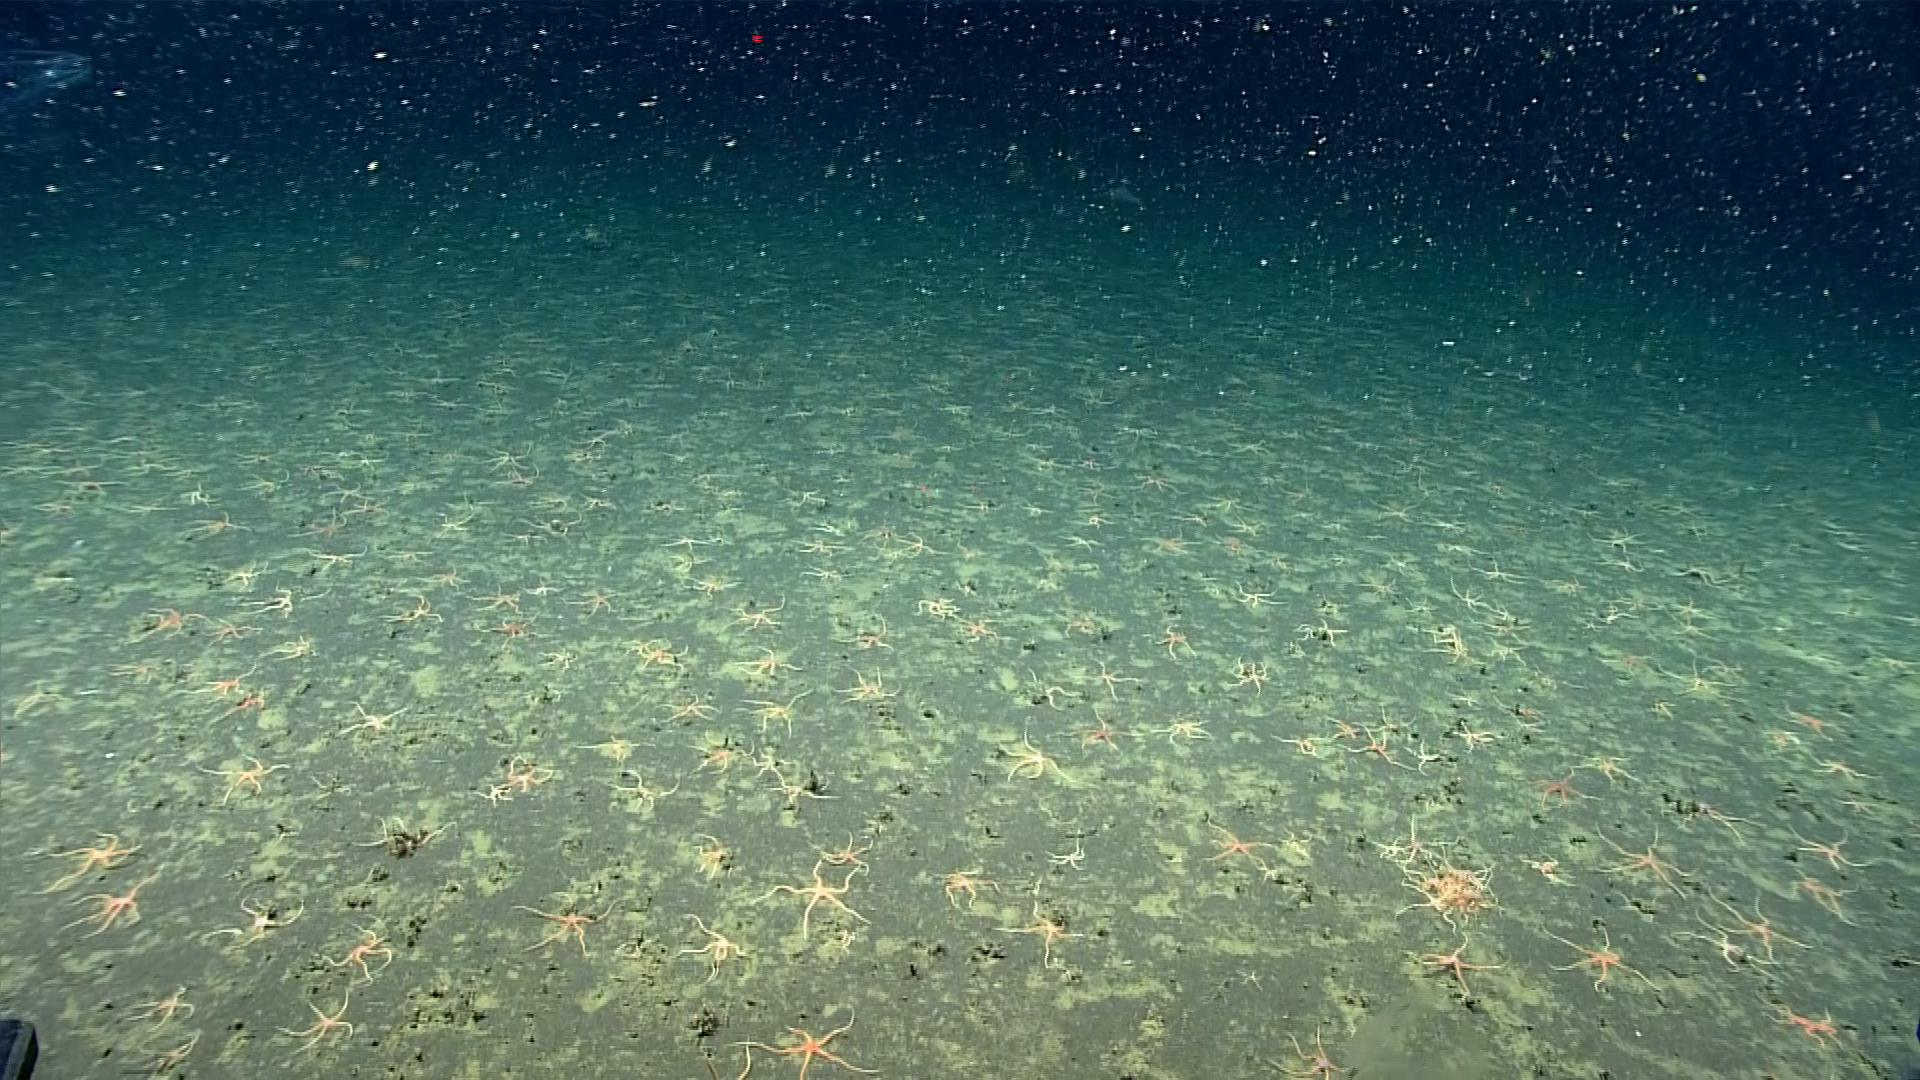brittle_sea_star: (725, 1006, 878, 1072), (738, 845, 864, 915), (54, 862, 166, 938), (1544, 927, 1662, 996), (32, 819, 142, 891), (1596, 822, 1695, 901), (1712, 890, 1817, 964), (1408, 935, 1511, 1009), (509, 887, 617, 953), (992, 897, 1087, 963), (1672, 902, 1758, 972), (272, 981, 357, 1050), (313, 913, 398, 981), (202, 889, 307, 944), (673, 909, 750, 978), (1788, 866, 1871, 931), (195, 746, 290, 802), (1759, 996, 1847, 1052), (989, 721, 1067, 779), (352, 810, 459, 851), (1673, 795, 1764, 843), (1063, 698, 1142, 752), (1192, 819, 1270, 868), (795, 814, 869, 864), (120, 599, 207, 641), (124, 976, 198, 1025), (1793, 825, 1866, 874), (733, 680, 810, 727), (1395, 807, 1460, 861), (1656, 651, 1734, 696), (1073, 649, 1142, 699), (1523, 761, 1601, 804), (1337, 723, 1412, 767), (331, 694, 411, 735), (928, 856, 996, 905), (473, 604, 553, 642), (605, 758, 676, 800), (828, 658, 901, 699), (178, 657, 258, 692), (135, 1019, 204, 1060), (1018, 661, 1073, 709), (720, 588, 786, 629), (1771, 700, 1846, 736), (828, 611, 897, 649), (208, 680, 270, 723), (684, 720, 741, 765), (181, 504, 249, 541), (1803, 750, 1879, 783), (1576, 746, 1643, 783), (737, 638, 803, 675), (1390, 874, 1447, 916), (295, 538, 371, 570), (1520, 843, 1575, 886), (764, 761, 829, 796), (287, 500, 348, 538), (1147, 705, 1216, 738), (691, 829, 736, 880), (649, 690, 717, 721), (1145, 616, 1199, 655), (376, 588, 442, 620), (947, 611, 1013, 642), (512, 505, 587, 533), (1222, 650, 1271, 692), (500, 750, 555, 787), (1667, 555, 1737, 584), (236, 580, 297, 613), (463, 576, 524, 609), (203, 609, 261, 644), (1472, 551, 1528, 585), (260, 628, 320, 659), (1447, 572, 1498, 609), (575, 729, 642, 757), (215, 555, 278, 584), (1360, 703, 1422, 732), (1141, 527, 1207, 554), (1232, 574, 1284, 607), (738, 731, 781, 771), (1403, 731, 1447, 770), (1448, 713, 1494, 750), (911, 585, 960, 620), (1299, 609, 1348, 644), (414, 559, 472, 587), (1269, 727, 1325, 754), (1593, 520, 1650, 547), (782, 530, 852, 553), (1486, 636, 1535, 667), (659, 524, 720, 549), (1042, 829, 1084, 865), (433, 502, 477, 535), (1478, 615, 1534, 641), (104, 653, 165, 676), (894, 525, 938, 558), (632, 640, 684, 666), (564, 585, 617, 612), (1830, 786, 1886, 811), (683, 568, 737, 593), (1425, 633, 1476, 659), (1052, 604, 1096, 634), (476, 442, 531, 465), (1353, 572, 1404, 597), (1197, 485, 1251, 509), (1321, 709, 1365, 738), (1220, 509, 1270, 534), (796, 555, 852, 578), (1371, 496, 1416, 522), (1510, 700, 1552, 727), (345, 491, 392, 514), (1130, 467, 1179, 489), (1167, 502, 1212, 526), (1424, 509, 1469, 533), (572, 485, 616, 509), (1309, 588, 1350, 613), (1551, 570, 1590, 595), (1433, 535, 1482, 555), (1420, 616, 1462, 638), (473, 777, 513, 800), (1059, 527, 1102, 549), (1232, 965, 1267, 990), (1369, 833, 1404, 858), (320, 476, 365, 496), (1672, 617, 1716, 637), (1672, 592, 1706, 617), (1403, 589, 1439, 613), (1602, 551, 1642, 572), (1596, 600, 1635, 621), (1379, 546, 1414, 570), (1639, 692, 1675, 715), (1015, 495, 1054, 514), (1075, 509, 1112, 526), (1647, 591, 1672, 615), (1489, 603, 1522, 618), (1327, 546, 1348, 562)
